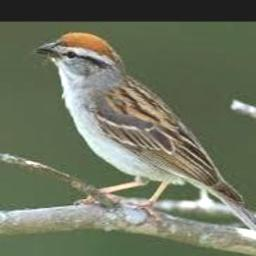Sparrow: (34, 30, 256, 256)
